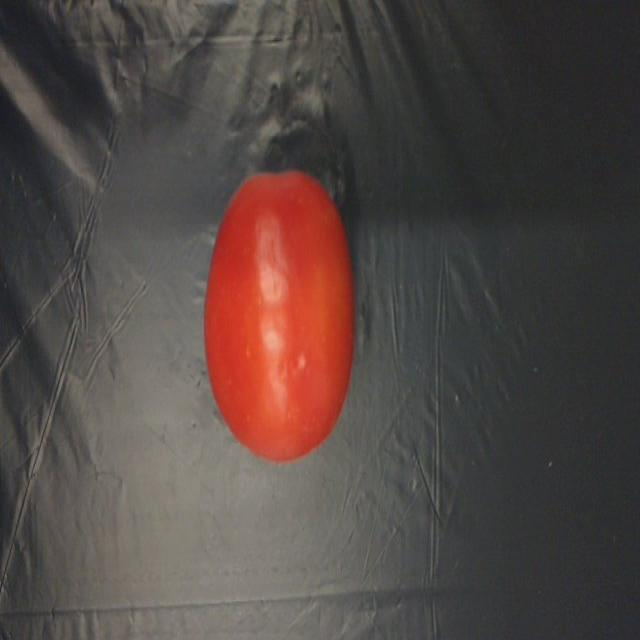kirmizi: (202, 168, 357, 468)
